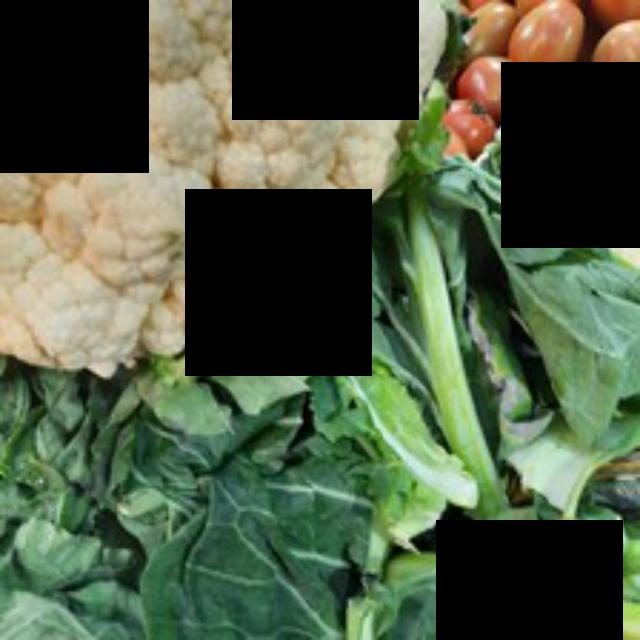cauliflower: (3, 0, 467, 381)
